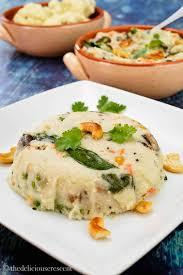upma: (9, 105, 164, 220), (81, 23, 183, 69)
